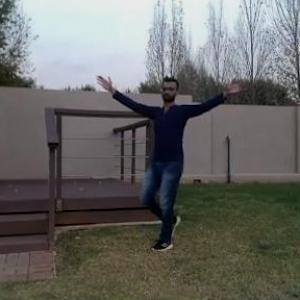takeoff: (97, 69, 254, 259)
